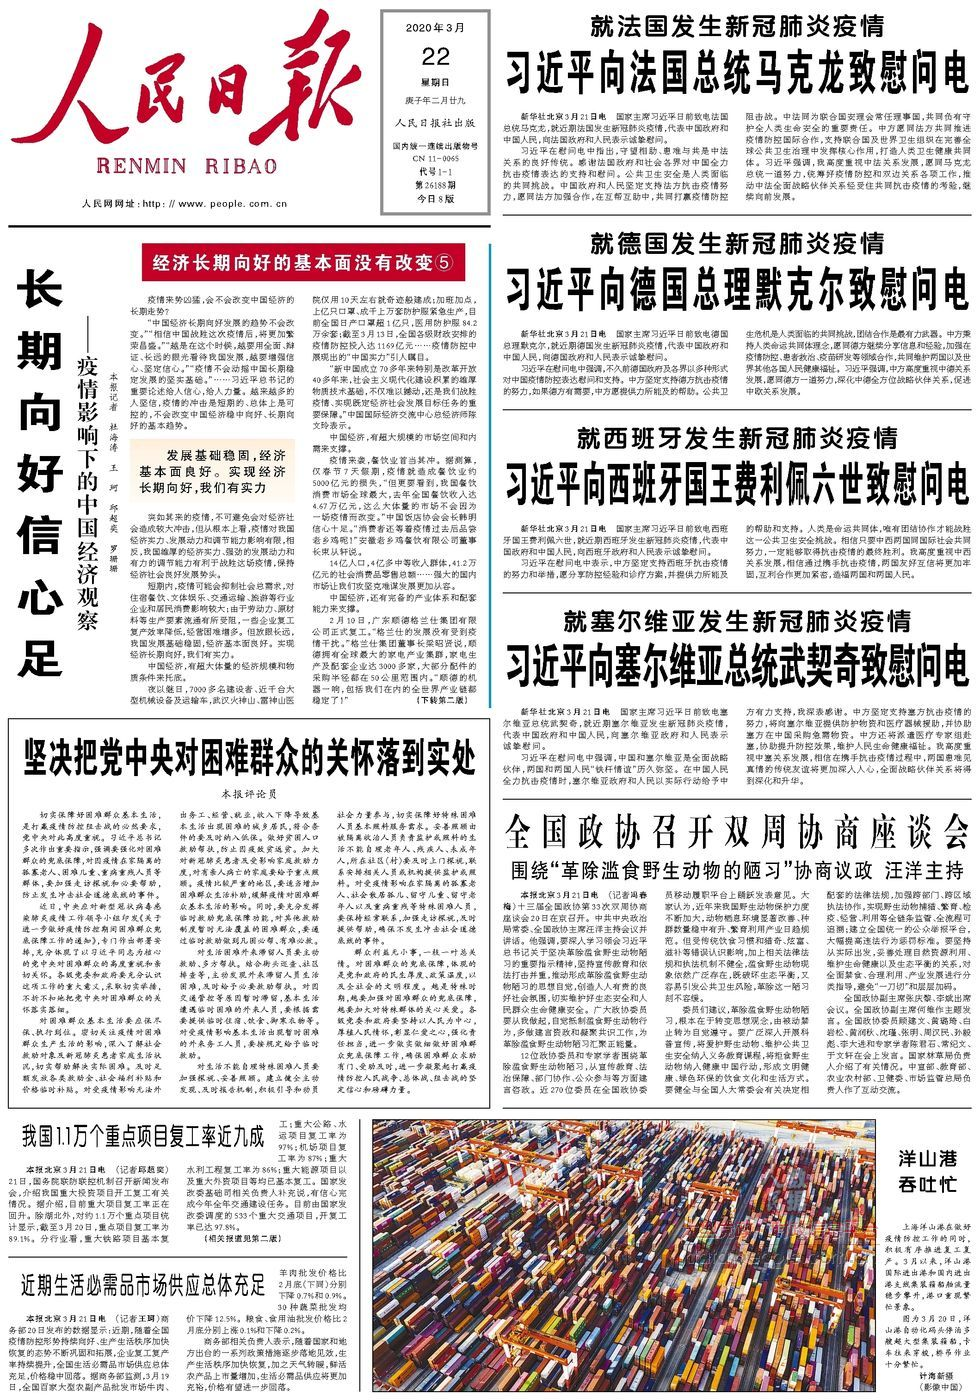pic: (368, 1114, 881, 1394)
